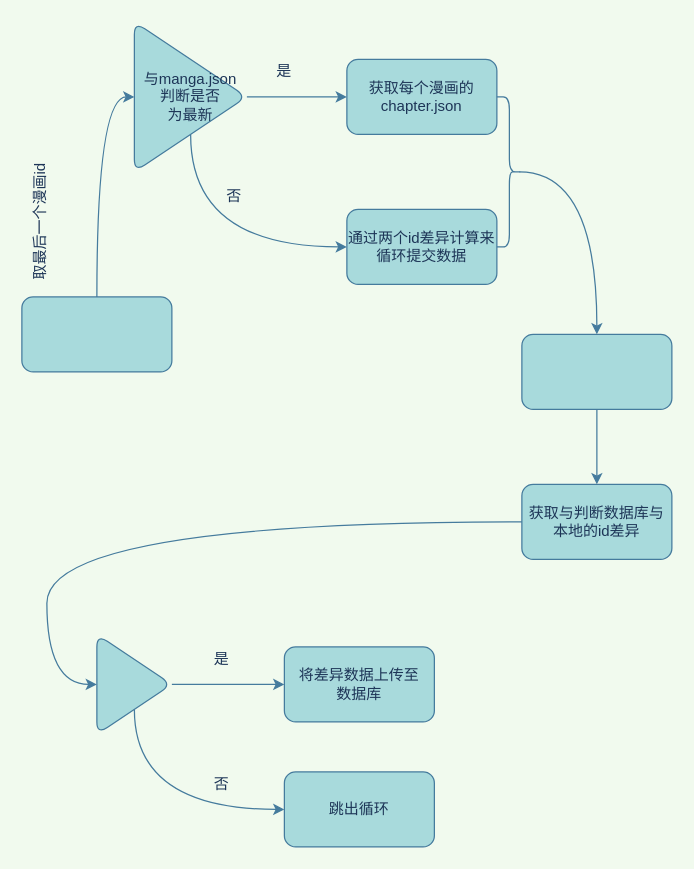
This 694x869 diagram has some shape labels left out. Each missing label, with the centre of its shape:
循环获取每个漫画的章节json: the point at 596,371
数据库: the point at 96,334
是否差异: the point at 134,683
